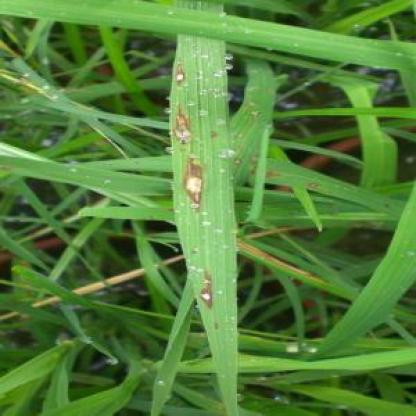Rice blast: (179, 159, 208, 212), (197, 270, 220, 331), (170, 109, 194, 144)
